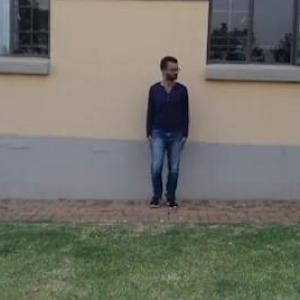follow: (146, 54, 190, 208)
